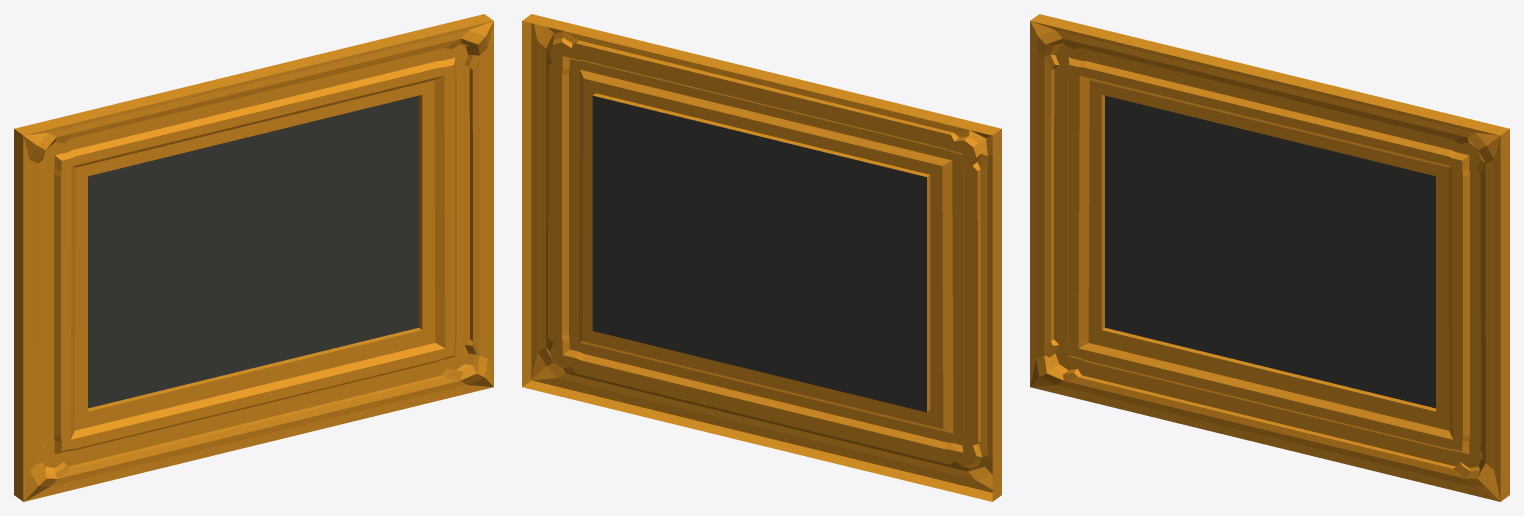
The model's file is PaintingRectFrame.fbx.
3 renders of one model, left to right at view 1: azimuth 30°, elevation 25°; view 2: azimuth 150°, elevation 25°; view 3: azimuth 330°, elevation 25°, orthographic.
Parts seen in each view (by area): view 1: Plane; view 2: Plane; view 3: Plane.
Part boxes in pixels (x1=…): Plane: x1=14, y1=14, x2=493, y2=501; Plane: x1=522, y1=14, x2=1001, y2=501; Plane: x1=1030, y1=14, x2=1509, y2=501.
Bounding box in the file's own units: 99.52 × 74.06 × 4.64.
